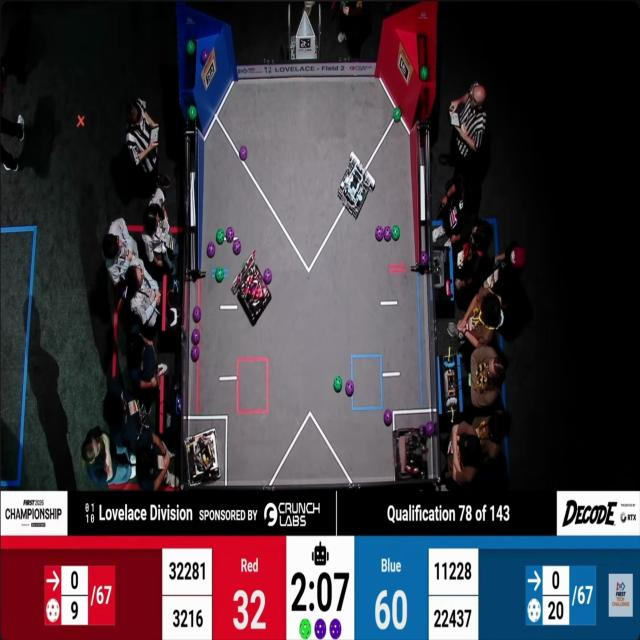artifact_green: (299, 619, 311, 639), (200, 48, 210, 66), (384, 409, 393, 426), (216, 228, 225, 245), (215, 267, 224, 283), (334, 376, 342, 392), (392, 225, 400, 241), (188, 106, 197, 120), (187, 40, 195, 55), (393, 107, 401, 122), (420, 67, 428, 81), (243, 262, 246, 267)
artifact_purple: (315, 619, 326, 639), (330, 619, 341, 639), (200, 49, 210, 66), (192, 306, 202, 323), (191, 329, 201, 345), (239, 145, 248, 162), (345, 380, 354, 397), (263, 268, 272, 285), (226, 227, 235, 243), (375, 226, 384, 242), (384, 409, 392, 426), (426, 421, 435, 436), (233, 239, 241, 255), (191, 346, 199, 361), (207, 243, 215, 258), (384, 226, 392, 241), (421, 252, 428, 265), (419, 425, 426, 437)
